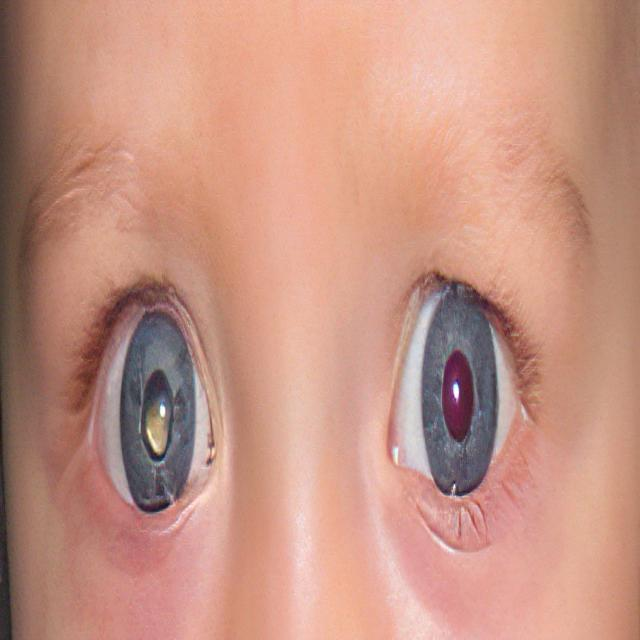reflexo-alterado: (75, 280, 232, 548)
reflexo-normal: (380, 270, 539, 546)
